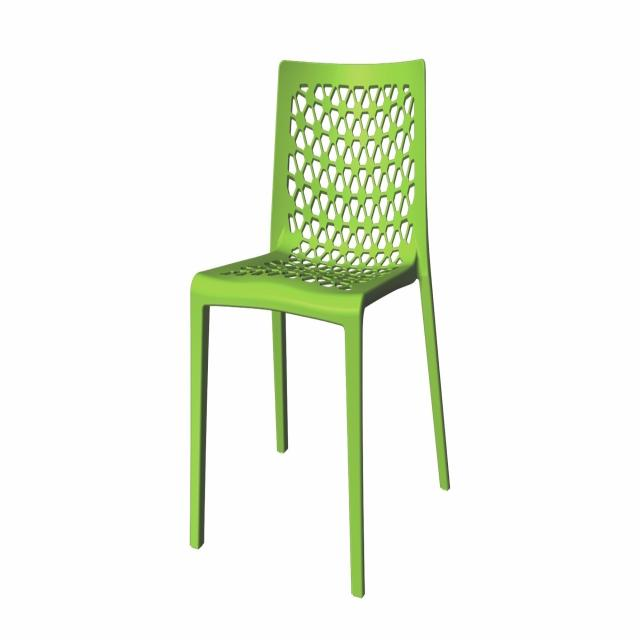Chair: (188, 53, 452, 595)
